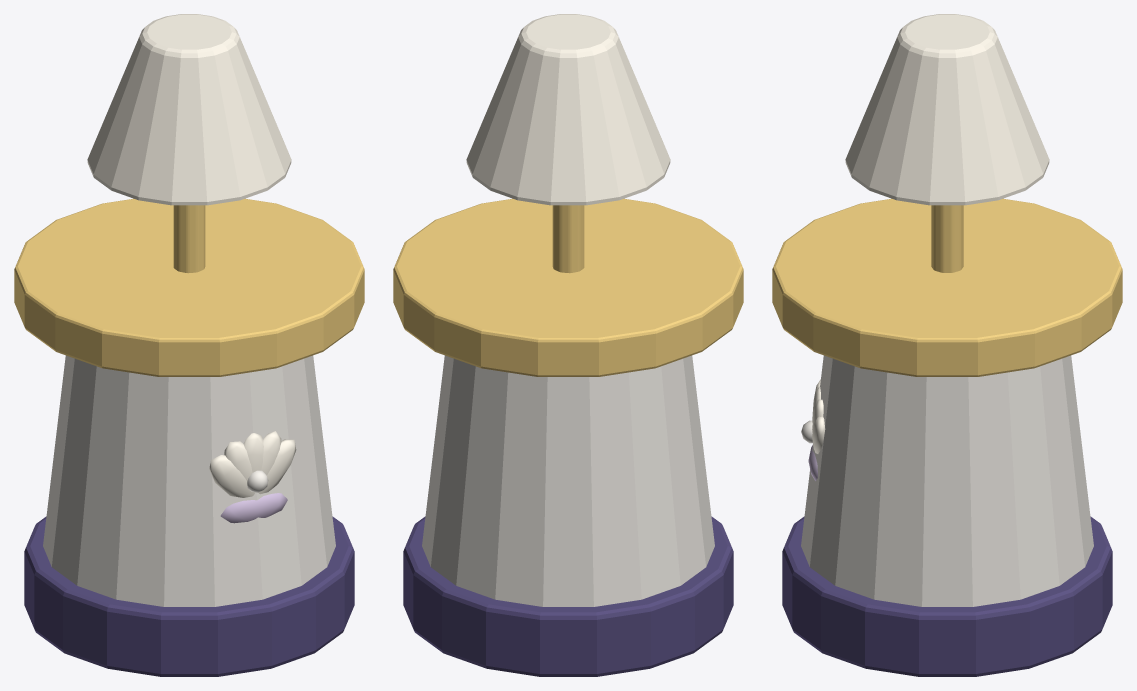
Rendered from pearl_bedside_table.glb.
The picture shows the model from 3 angles, left to right: view 1: azimuth 30°, elevation 25°; view 2: azimuth 150°, elevation 25°; view 3: azimuth 270°, elevation 25°; orthographic projection.
Visible parts, largest first — view 1: pearl_bedside_table.001; view 2: pearl_bedside_table.001; view 3: pearl_bedside_table.001.
Part boxes in pixels (left/top/right/bottom): pearl_bedside_table.001: left=14, top=14, right=364, bottom=676; pearl_bedside_table.001: left=393, top=14, right=743, bottom=676; pearl_bedside_table.001: left=772, top=14, right=1122, bottom=676.
Bounding box in the file's own units: 2.72 × 5.02 × 2.76.
